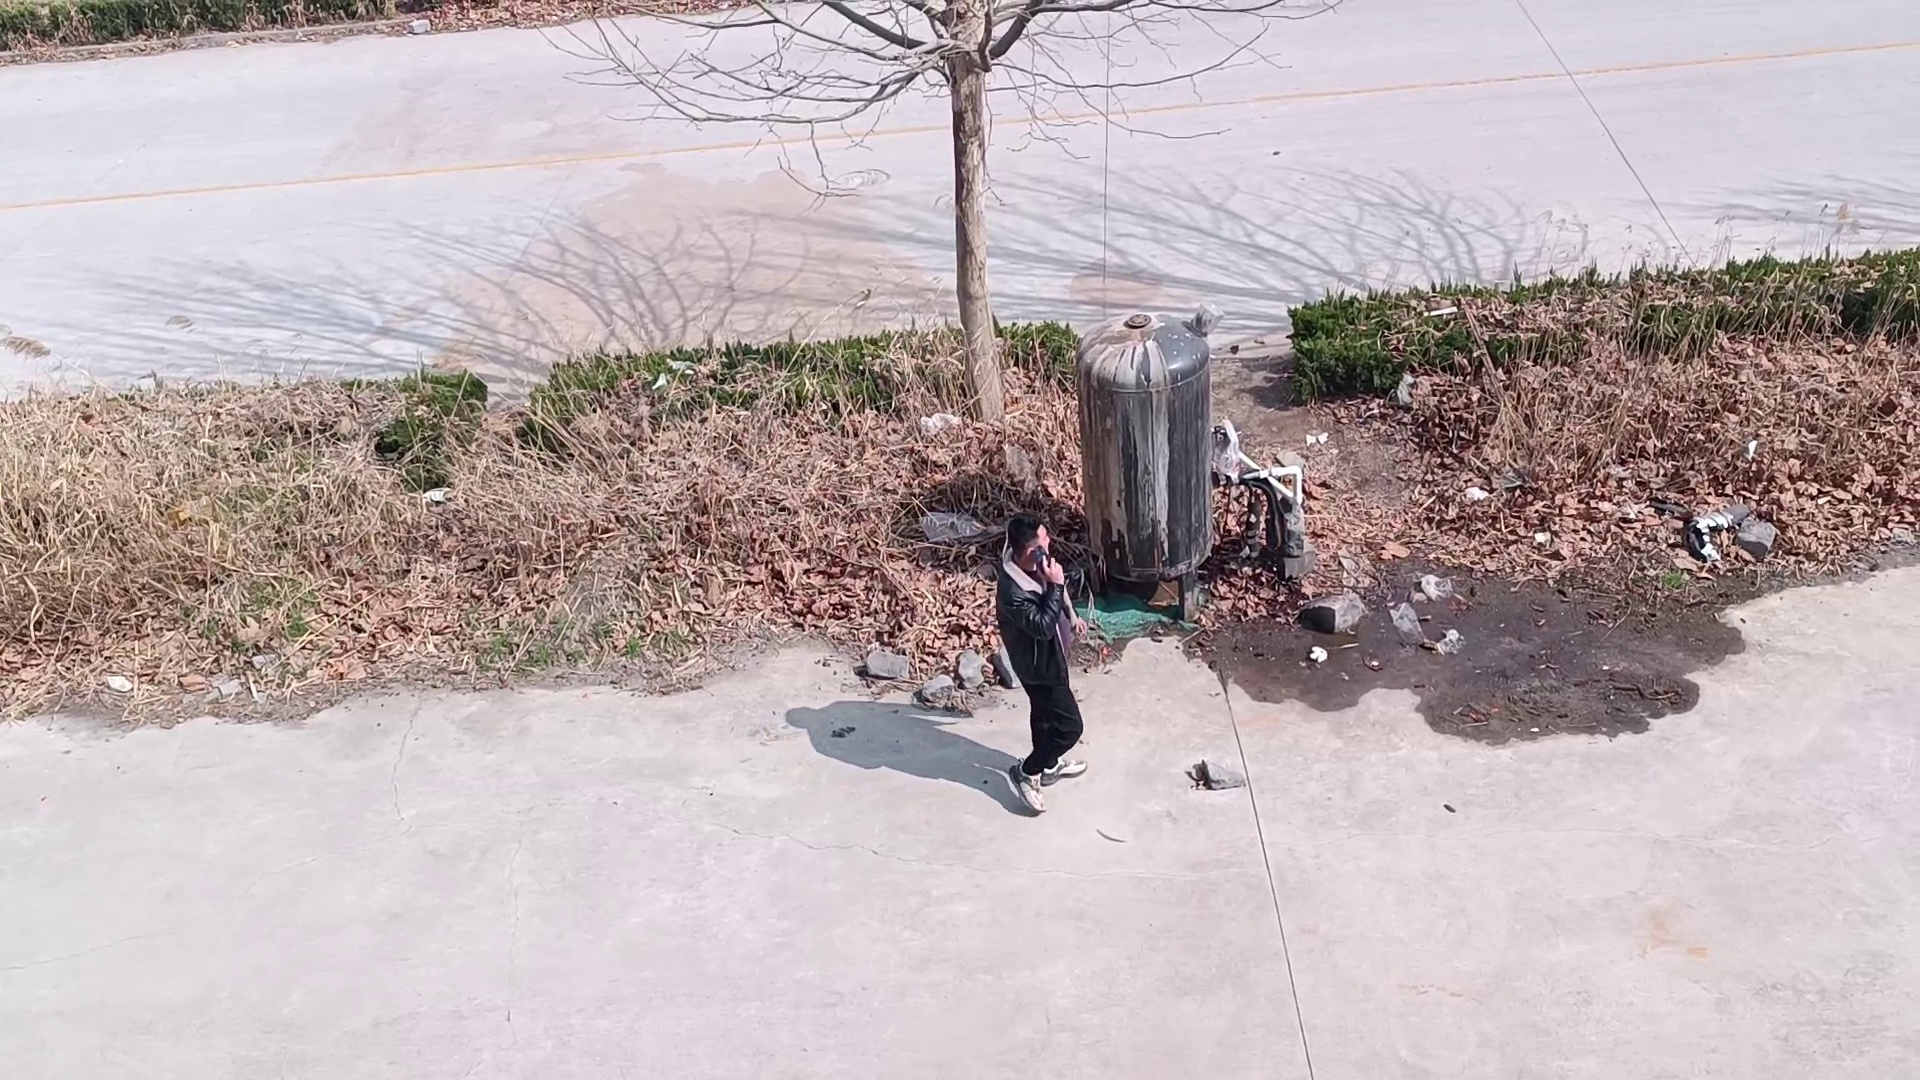phone: (993, 509, 1064, 578)
